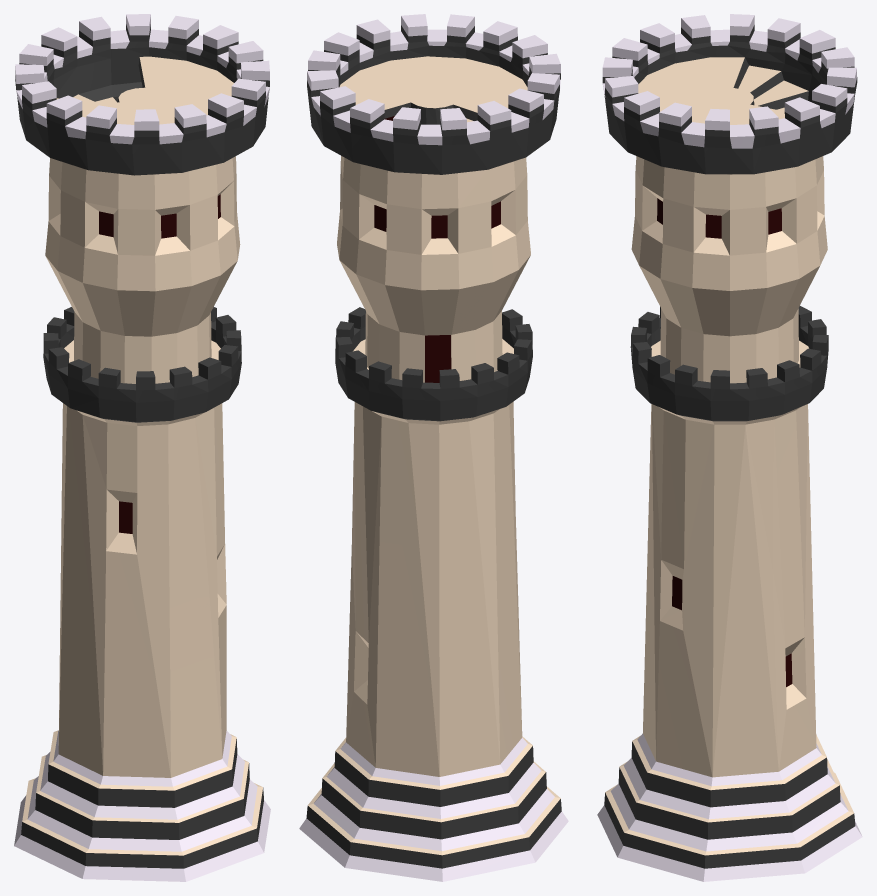
File: winter_castle_tower2.glb
3 renders of one model, left to right at view 1: azimuth 30°, elevation 25°; view 2: azimuth 150°, elevation 25°; view 3: azimuth 270°, elevation 25°, orthographic.
Parts seen in each view (by area): view 1: Tower2_Medieval_0; view 2: Tower2_Medieval_0; view 3: Tower2_Medieval_0.
Boxes of the visible parts, <box> form: Tower2_Medieval_0: <box>14,14,270,881</box>; Tower2_Medieval_0: <box>299,14,568,881</box>; Tower2_Medieval_0: <box>597,14,862,881</box>.
Bounding box in the file's own units: 4.4 × 13.85 × 4.4.
1 material, 1 textured.
